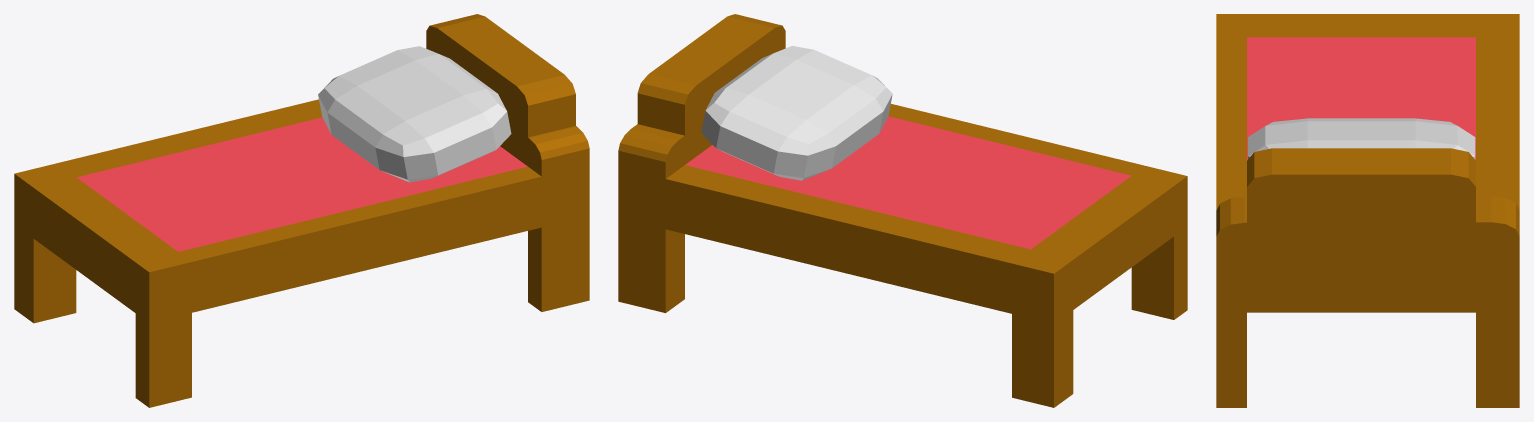
Rendered from bed.fbx.
3 views of the same model, side by side, from view 1: azimuth 30°, elevation 25°; view 2: azimuth 150°, elevation 25°; view 3: azimuth 270°, elevation 25° (orthographic). The views are drawn at different scales.
Visible parts, largest first — view 1: bed, podyshka; view 2: bed, podyshka; view 3: bed, podyshka.
Boxes of the visible parts, x1,y1,x2,y2 form: bed: (14, 14, 589, 407); podyshka: (318, 46, 511, 182); bed: (618, 14, 1187, 407); podyshka: (701, 46, 892, 180); bed: (1216, 14, 1519, 407); podyshka: (1248, 118, 1475, 159).
Size of the model in its own units: 503 by 227 by 267.
